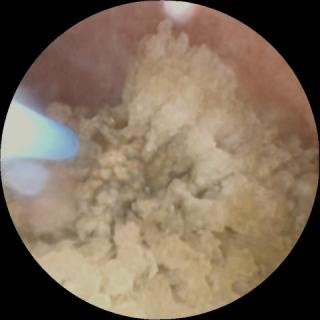fiber: (3, 103, 79, 158)
stone: (28, 20, 318, 314)
